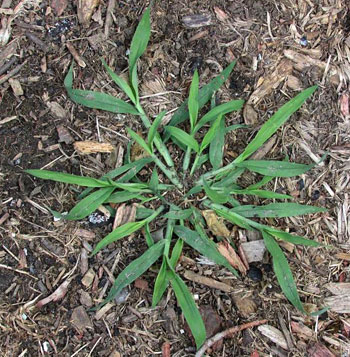crabgrass: (89, 93, 309, 317)
